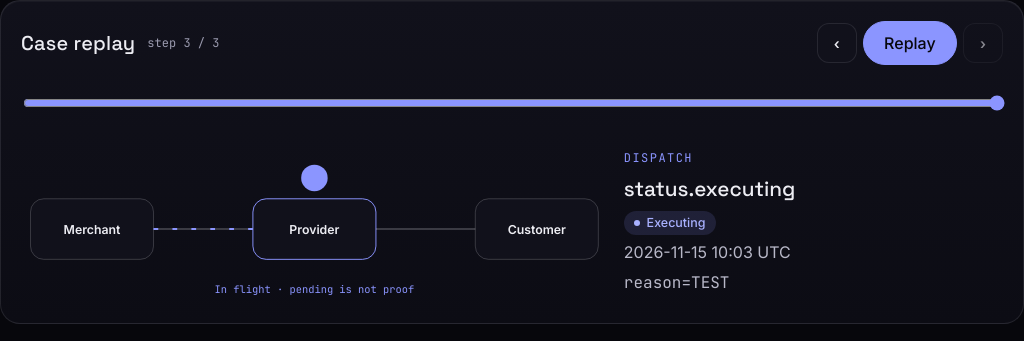
CaseReplay › starts on the newest event and scrubs back through history
Check: the text "step 3 / 3" is shown, box [147,35,219,51]
Check: the picture "Merchant Provider Customer In flight · pending is not proof" is shown, box [21,142,608,303]
Set the slider named "Replay position" to "0" at (31, 103), box [23,81,1005,125]
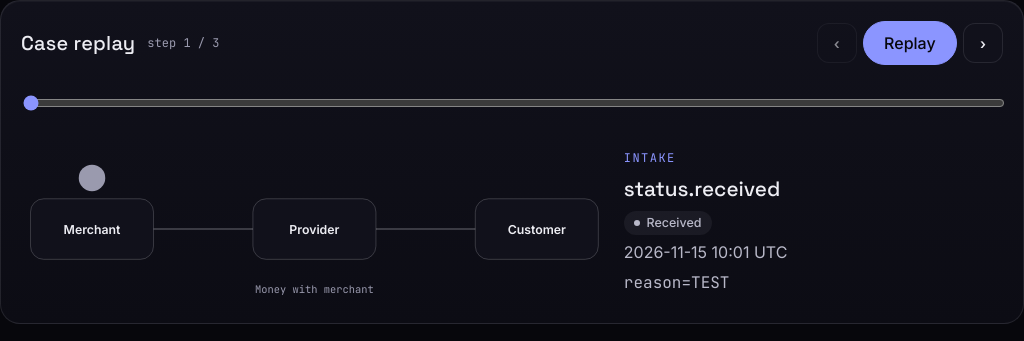
Check: the text "step 1 / 3" is shown, box [147,35,219,51]
Check: the picture "Merchant Provider Customer Money with merchant" is shown, box [21,142,608,303]
